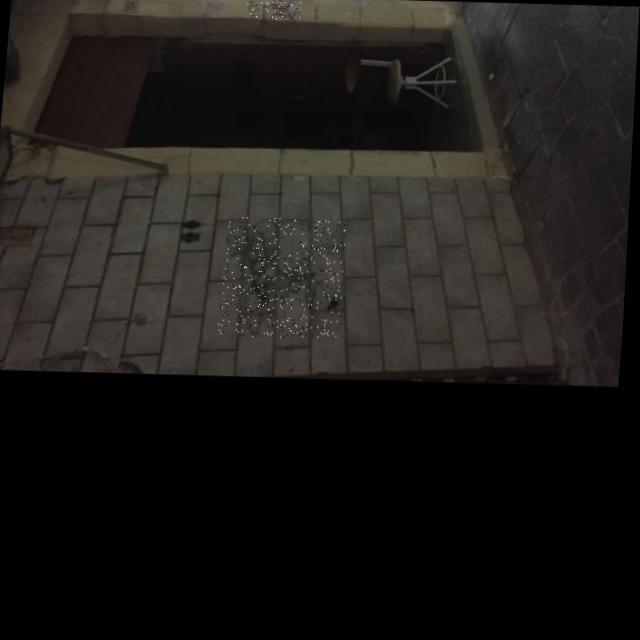-: (220, 216, 352, 340), (245, 0, 301, 22)
